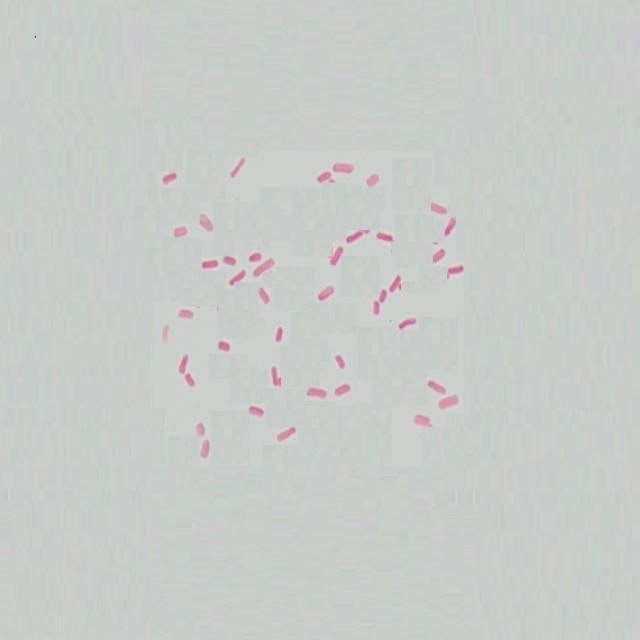E-coli: (249, 252, 280, 285), (154, 170, 181, 192), (267, 360, 285, 391), (345, 222, 370, 244), (276, 423, 297, 448), (426, 195, 448, 218), (425, 243, 448, 265), (438, 391, 463, 411), (413, 407, 432, 433), (226, 157, 248, 179), (243, 401, 267, 421), (315, 282, 336, 304), (425, 376, 448, 395), (331, 159, 356, 176), (224, 270, 244, 291), (396, 315, 420, 332), (378, 225, 396, 247), (171, 220, 189, 242), (447, 262, 466, 282), (389, 270, 402, 299), (303, 385, 328, 400), (200, 210, 215, 235), (333, 348, 348, 372), (256, 285, 272, 307), (274, 322, 287, 349), (182, 373, 199, 392), (329, 245, 343, 267), (444, 218, 461, 235), (176, 351, 188, 375), (199, 258, 218, 273), (159, 322, 170, 347), (335, 382, 351, 399), (178, 308, 195, 323), (201, 435, 210, 462), (366, 171, 380, 188), (218, 337, 231, 355), (248, 250, 262, 265), (316, 169, 329, 184), (371, 297, 379, 321), (380, 285, 390, 304), (222, 253, 235, 267), (194, 420, 205, 435)
